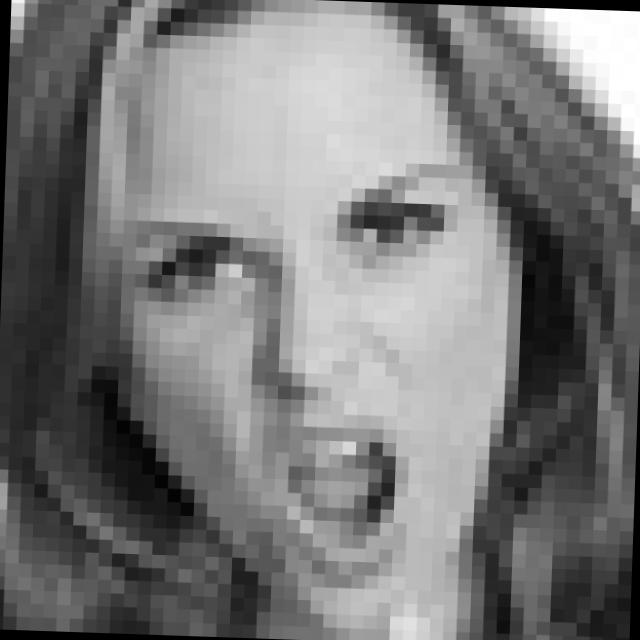angry: (112, 153, 465, 581)
